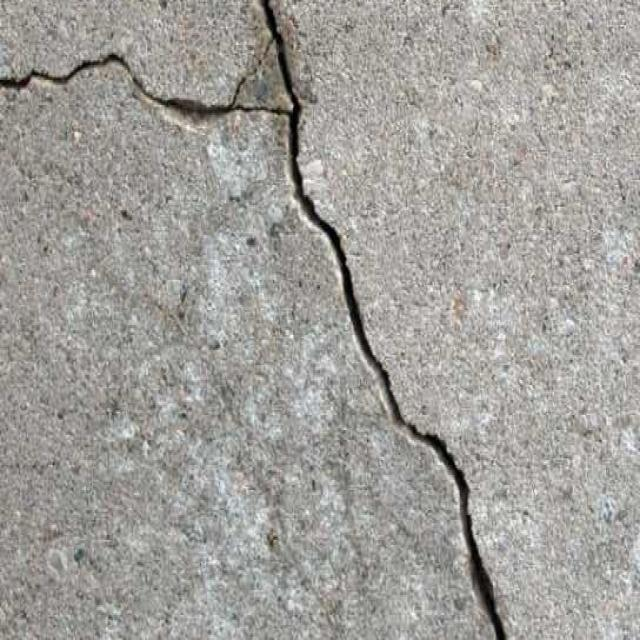Annular: (170, 0, 339, 163)
Diagonal: (292, 168, 513, 640)
Transverse: (0, 49, 165, 110)
